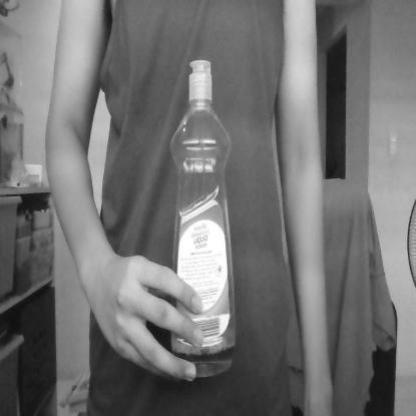Plastic Bottle: (163, 58, 240, 376)
